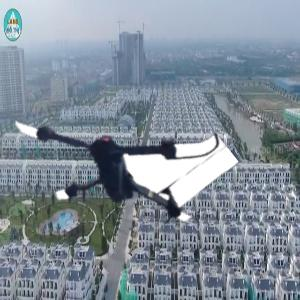drone: (15, 62, 211, 258)
